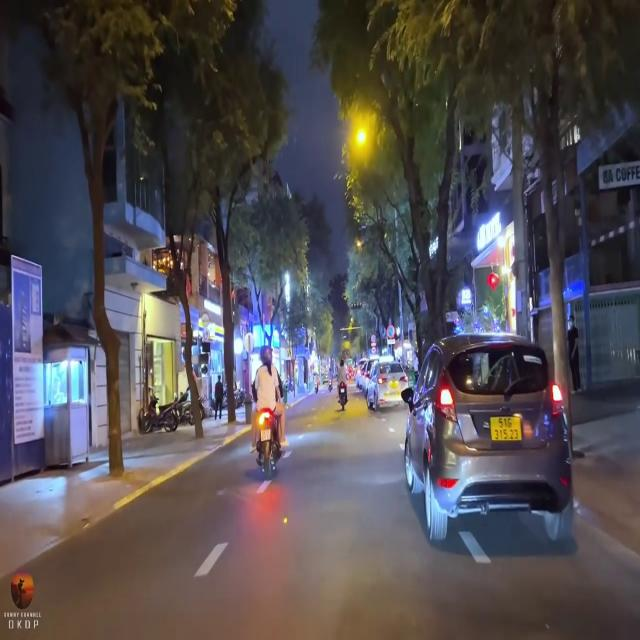bien_vang: (486, 409, 526, 447)
